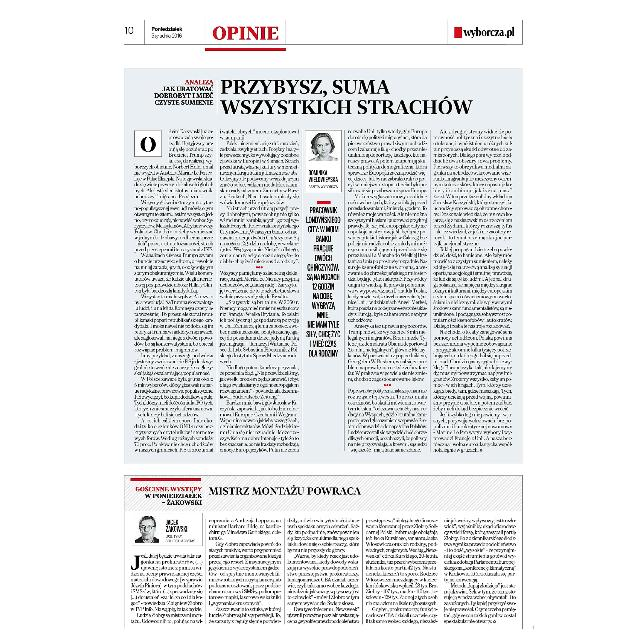article: (128, 71, 514, 456), (127, 477, 518, 627)
